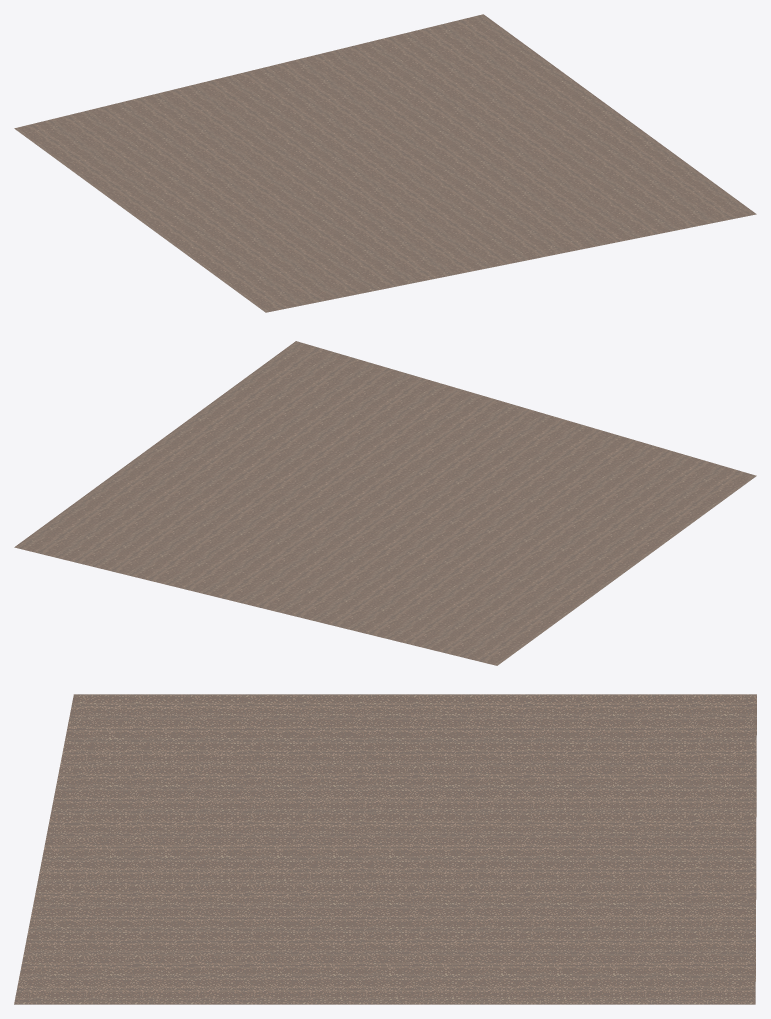
Rendered from kd_stage_1364a3_11_22_bounded.glb.
The picture shows the model from 3 angles, top to bottom: view 1: azimuth 30°, elevation 25°; view 2: azimuth 150°, elevation 25°; view 3: azimuth 270°, elevation 25°; orthographic projection. The views are drawn at different scales.
Visible parts, largest first — view 1: kd_stage_1364a3_11_22_bounded; view 2: kd_stage_1364a3_11_22_bounded; view 3: kd_stage_1364a3_11_22_bounded.
Boxes of the visible parts, <box> form: kd_stage_1364a3_11_22_bounded: <box>14,14,756,312</box>; kd_stage_1364a3_11_22_bounded: <box>14,341,756,665</box>; kd_stage_1364a3_11_22_bounded: <box>14,694,756,1004</box>.
Size of the model in its own units: 9.04 by 0.00272 by 9.14.
1 material, 1 textured.
